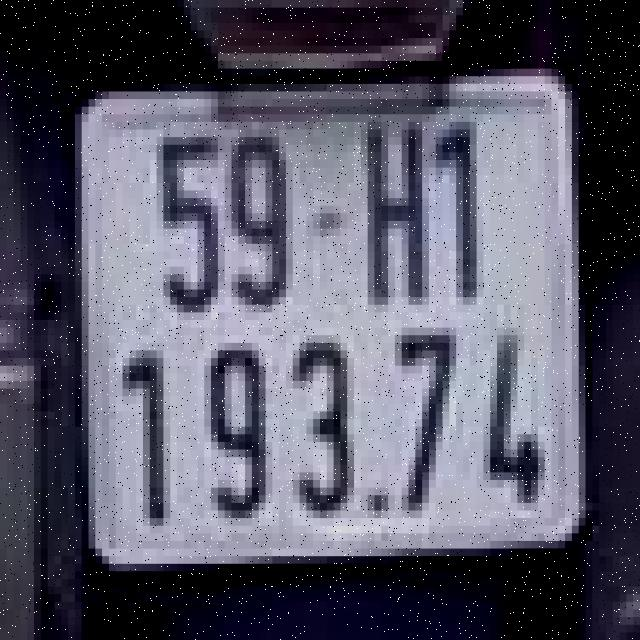1: (116, 332, 184, 552), (439, 122, 487, 312)
3: (293, 332, 361, 530)
4: (476, 328, 552, 510)
5: (150, 126, 224, 316)
7: (388, 328, 463, 518)
9: (201, 335, 282, 526), (224, 126, 300, 316)
H: (358, 110, 432, 308)
